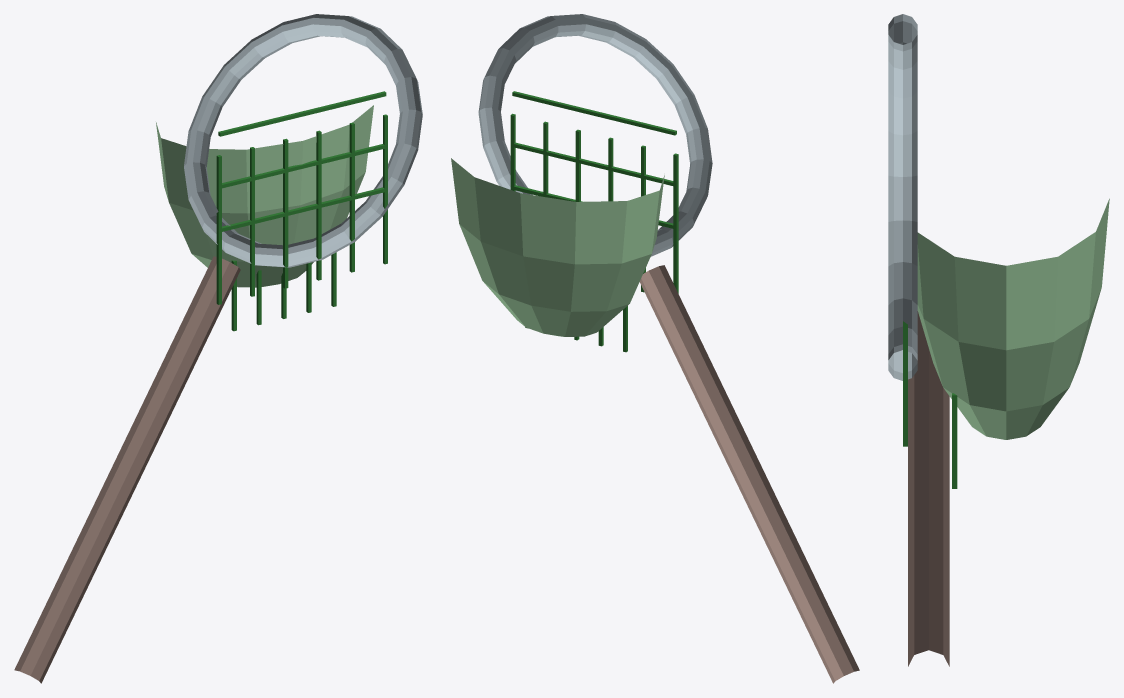
The model's file is fiskhav.glb.
3 renders of one model, left to right at view 1: azimuth 30°, elevation 25°; view 2: azimuth 150°, elevation 25°; view 3: azimuth 270°, elevation 25°, orthographic. The views are drawn at different scales.
Visible parts, largest first — view 1: fiskhav; view 2: fiskhav; view 3: fiskhav.
Part boxes in pixels (x1=…): fiskhav: x1=14, y1=14, x2=422, y2=683; fiskhav: x1=451, y1=14, x2=859, y2=683; fiskhav: x1=888, y1=14, x2=1109, y2=666.
Size of the model in its own units: 0.4759 by 0.6985 by 0.1714.
